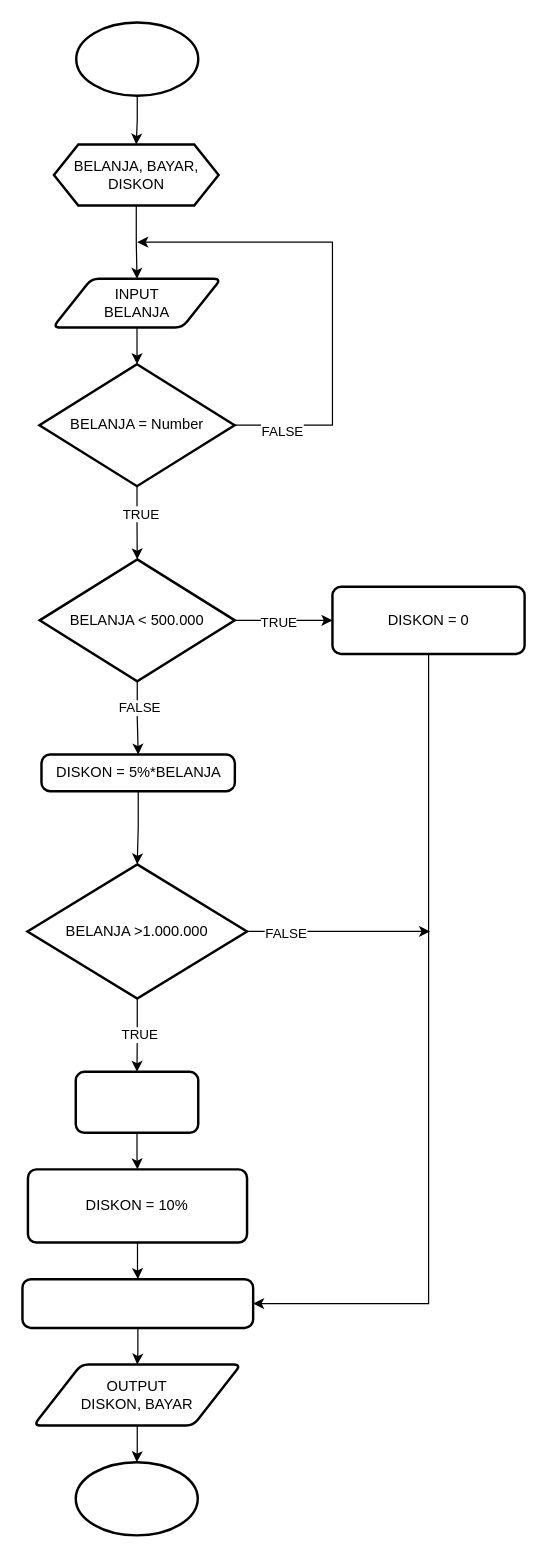
Some shapes in this 547 by 1557 pixel diagram are drawn without their labels. The shapes that lost their labels are listed below. From the top down, each one's centre as x and y in pixels, then its label:
point (136, 58): START
point (136, 1101): TAMBAHAN DISKON MENJADI 10%
point (137, 1303): BAYAR = BELANJA - DISKON
point (136, 1498): END
